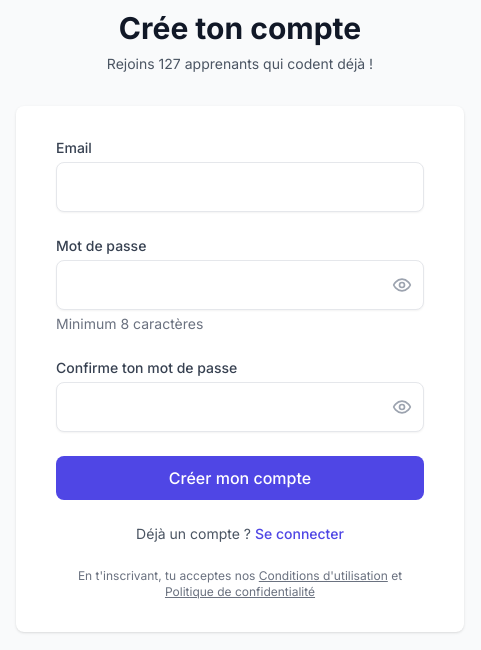
Scenario: RegisterPage Integration › Validation errors display › should display password length error
In the password field labelled "Mot de passe": [240, 285] box [56, 260, 424, 310], type "short"
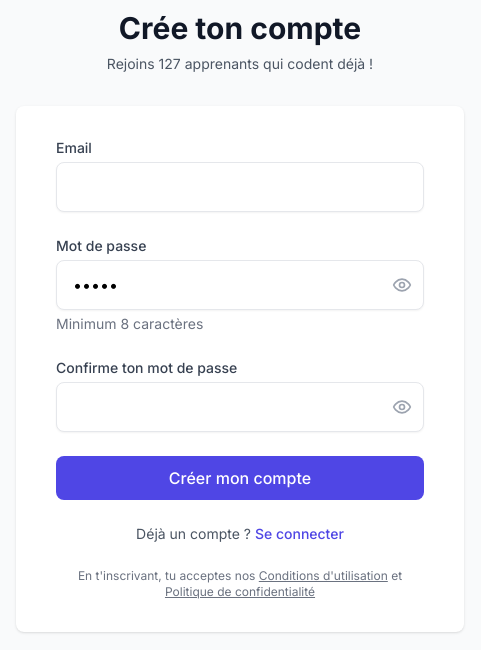
Leave the password field labelled "Mot de passe", box [56, 260, 424, 310]
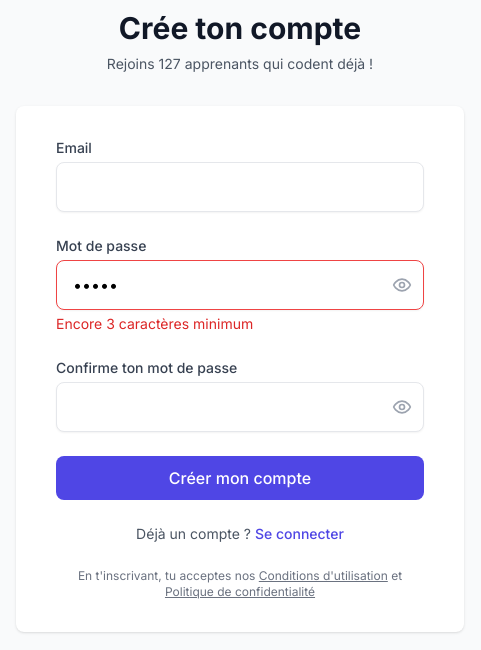
Expected: the text "Encore 3 caractères minimum" is shown, [56, 315, 253, 332]
